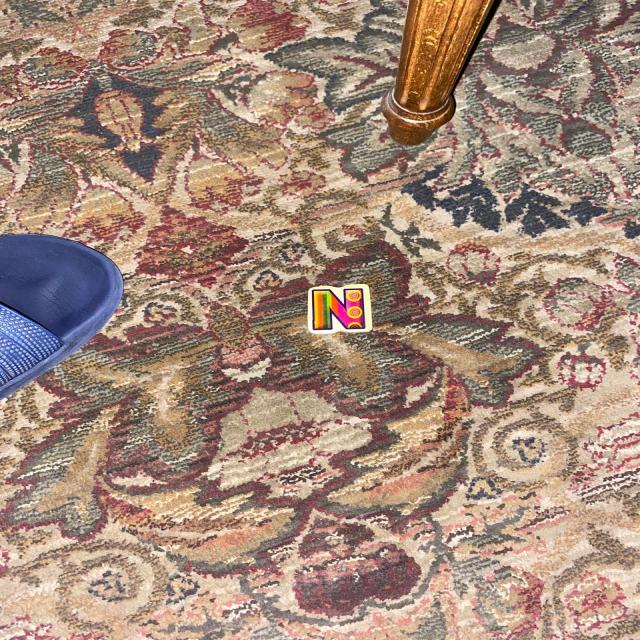N: (307, 286, 370, 332)
